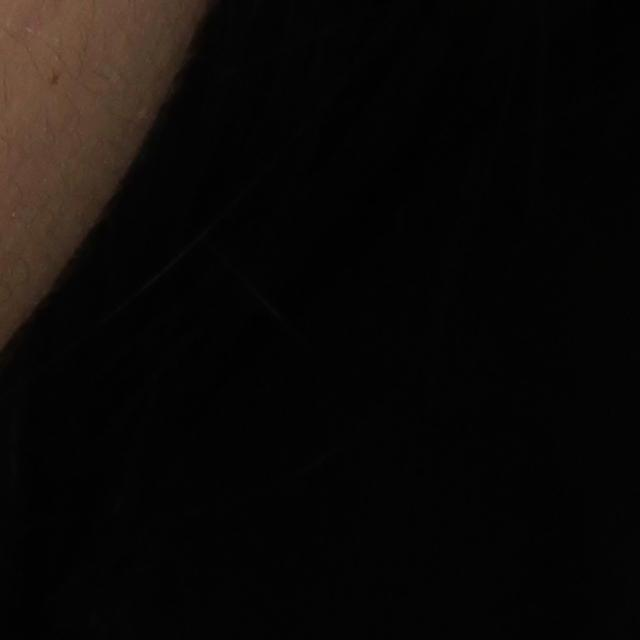nevus: (45, 66, 66, 88)
